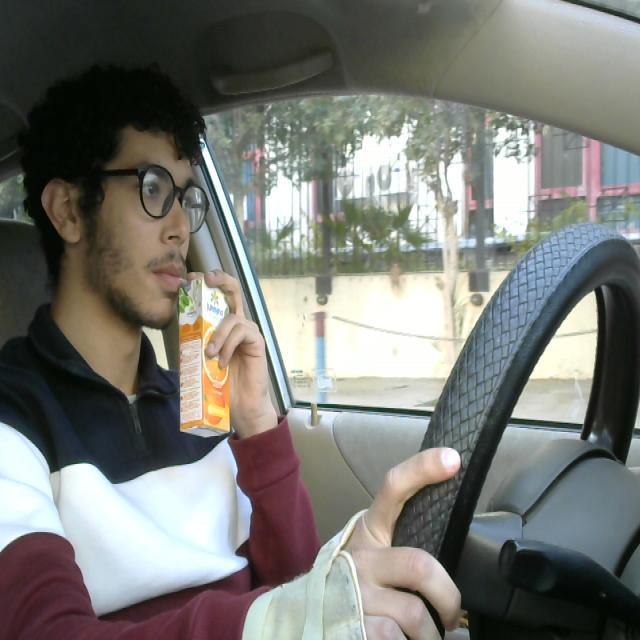drinking: (174, 274, 235, 448)
